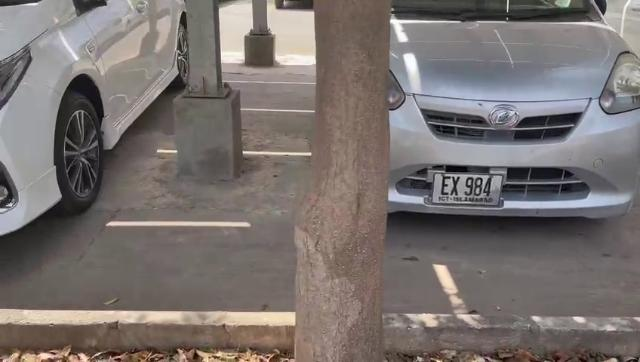plate: (430, 171, 506, 207)
